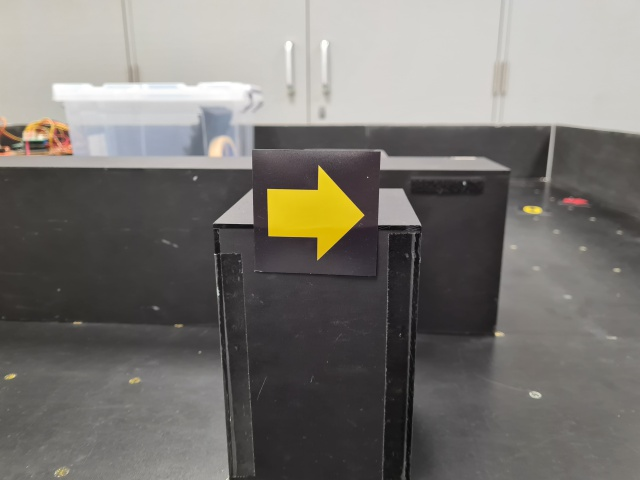right_arrow: (251, 149, 380, 279)
